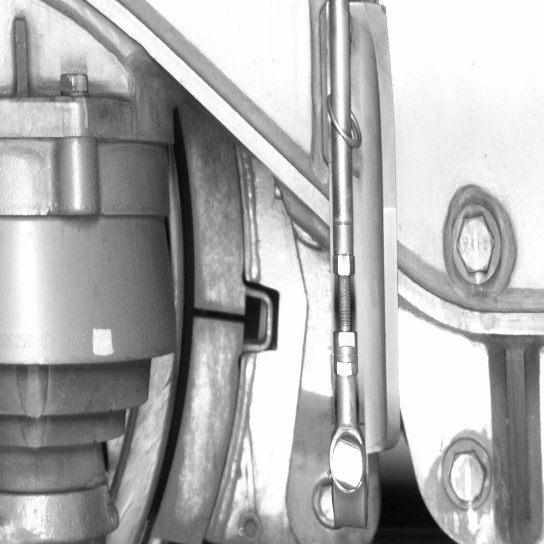KnifeSwitch: (129, 139, 242, 541)
